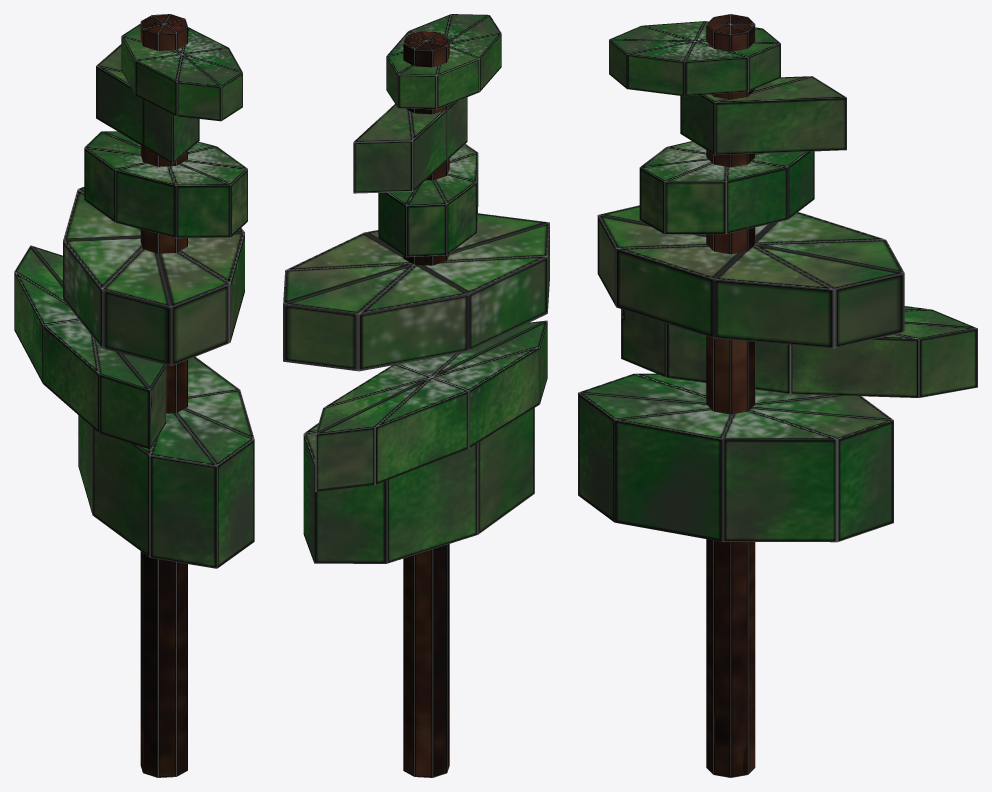
The model's file is TREE_5.fbx.
3 renders of one model, left to right at view 1: azimuth 30°, elevation 25°; view 2: azimuth 150°, elevation 25°; view 3: azimuth 270°, elevation 25°, orthographic. The views are drawn at different scales.
Visible parts, largest first — view 1: pCylinder15, pCylinder13, pCylinder14, TREE_5, pCylinder17, pCylinder18, pCylinder16; view 2: pCylinder13, pCylinder14, pCylinder15, TREE_5, pCylinder16, pCylinder17, pCylinder18; view 3: pCylinder15, pCylinder13, TREE_5, pCylinder14, pCylinder17, pCylinder16, pCylinder18.
Part boxes in pixels (x1,y1,x2,y2): pCylinder15: [78, 357, 254, 568]; pCylinder13: [63, 187, 244, 366]; pCylinder14: [14, 245, 166, 449]; TREE_5: [140, 14, 187, 777]; pCylinder17: [84, 131, 247, 238]; pCylinder18: [121, 23, 242, 121]; pCylinder16: [96, 44, 199, 164]; pCylinder13: [283, 213, 549, 371]; pCylinder14: [315, 320, 547, 491]; pCylinder15: [303, 408, 534, 563]; TREE_5: [403, 31, 449, 777]; pCylinder16: [353, 97, 467, 193]; pCylinder17: [378, 144, 478, 257]; pCylinder18: [386, 14, 501, 109]; pCylinder15: [578, 373, 893, 542]; pCylinder13: [597, 205, 904, 348]; TREE_5: [706, 14, 755, 777]; pCylinder14: [621, 306, 977, 397]; pCylinder17: [639, 141, 814, 234]; pCylinder16: [680, 76, 846, 155]; pCylinder18: [609, 21, 780, 96].
Size of the model in its own units: 2.62 by 10 by 4.88.
2 materials, 2 textured.
